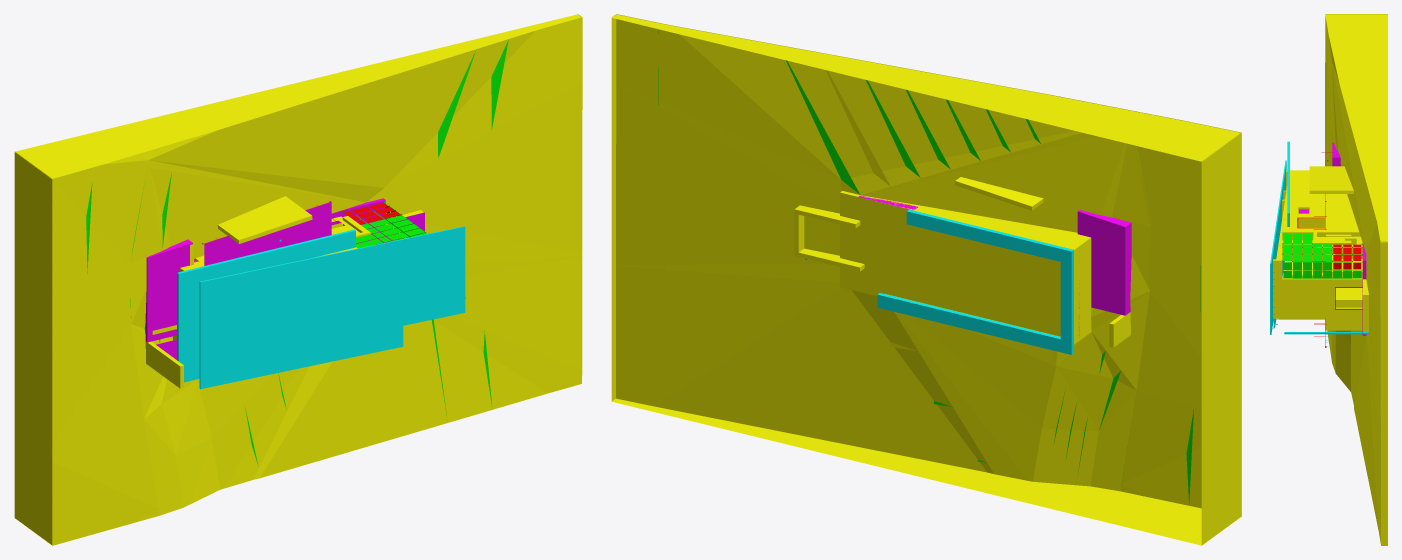
File: Haus1.obj
3 views of the same model, side by side, from view 1: azimuth 30°, elevation 25°; view 2: azimuth 150°, elevation 25°; view 3: azimuth 270°, elevation 25° (orthographic). The views are drawn at different scales.
Parts seen in each view (by area): view 1: 3D-C-TOPO_5, 3D-ROOFOTM_1, 3D-C-TOPO_1, 3D-C-TOPO_2, 3D-C-TOPO_10, 3D-ROOFOTM_9, 3D-C-TOPO_9, 3D-FLOROTM_1, 3D-FLOROTM_27, 3D-S-WALLLOM_7, 3D-S-WALLLOM_1, 3D-C-TOPOMNM_22 (+1 smaller); view 2: 3D-C-TOPO_5, 3D-C-TOPO_8, 3D-C-TOPO_1, 3D-C-TOPO, 3D-C-TOPO_2, 3D-C-TOPO_10, 3D-C-TOPO_9, 3D-FLOROTM_26, 3D-S-----TEP_499, 3D-S-----TEP_487, 3D-C-TOPO_4, 3D-WALL_327 (+4 smaller); view 3: 3D-C-TOPO_5, 3D-C-TOPO_1, 3D-WALL_153, 3D-WALL_49, 3D-C-TOPO_4, 3D-S-WALLLOM_7, 3D-C-TOPO_10, 3D-ROOFOTM, 3D-WALL_292, 3D-WALL_117, 3D-WALL_137, 3D-COLSENM_5 (+8 smaller).
Boxes of the visible parts, <box> form: 3D-C-TOPO_5: <box>52,17,582,545</box>; 3D-ROOFOTM_1: <box>200,226,465,389</box>; 3D-C-TOPO_1: <box>15,14,581,178</box>; 3D-C-TOPO_2: <box>14,257,52,544</box>; 3D-C-TOPO_10: <box>52,165,149,302</box>; 3D-ROOFOTM_9: <box>178,231,355,382</box>; 3D-C-TOPO_9: <box>14,166,52,284</box>; 3D-FLOROTM_1: <box>156,202,331,359</box>; 3D-FLOROTM_27: <box>147,243,192,342</box>; 3D-S-WALLLOM_7: <box>218,196,311,239</box>; 3D-S-WALLLOM_1: <box>145,341,180,388</box>; 3D-C-TOPOMNM_22: <box>431,51,475,417</box>; 3D-C-TOPO_5: <box>616,14,1241,516</box>; 3D-C-TOPO_8: <box>840,192,1060,336</box>; 3D-C-TOPO_1: <box>612,14,1240,161</box>; 3D-C-TOPO: <box>612,398,1240,545</box>; 3D-C-TOPO_2: <box>1201,244,1241,545</box>; 3D-C-TOPO_10: <box>1129,144,1241,268</box>; 3D-C-TOPO_9: <box>1201,147,1241,271</box>; 3D-FLOROTM_26: <box>1077,211,1125,315</box>; 3D-S-----TEP_499: <box>877,294,1071,354</box>; 3D-S-----TEP_487: <box>906,211,1071,261</box>; 3D-C-TOPO_4: <box>611,14,616,401</box>; 3D-WALL_327: <box>914,205,1083,248</box>; 3D-C-TOPO_5: <box>1325,16,1380,543</box>; 3D-C-TOPO_1: <box>1325,14,1387,242</box>; 3D-WALL_153: <box>1273,260,1362,318</box>; 3D-WALL_49: <box>1276,171,1351,259</box>; 3D-C-TOPO_4: <box>1380,241,1387,545</box>; 3D-S-WALLLOM_7: <box>1309,166,1353,190</box>; 3D-C-TOPO_10: <box>1325,27,1334,165</box>; 3D-ROOFOTM: <box>1271,162,1286,334</box>; 3D-WALL_292: <box>1325,319,1362,328</box>; 3D-WALL_117: <box>1335,288,1362,298</box>; 3D-WALL_137: <box>1282,200,1324,240</box>; 3D-COLSENM_5: <box>1284,332,1368,334</box>.
Bounding box in the file's own units: 1095 × 681 × 239.
